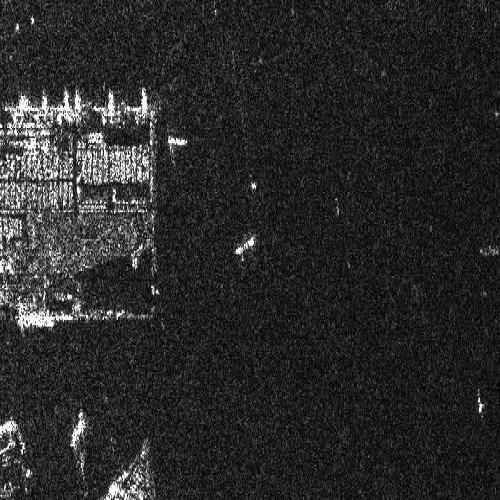ship: (69, 416, 88, 450), (234, 234, 257, 257), (167, 134, 189, 148), (477, 392, 484, 415)
